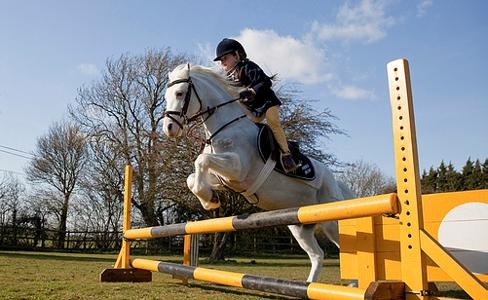person: (212, 35, 302, 174)
